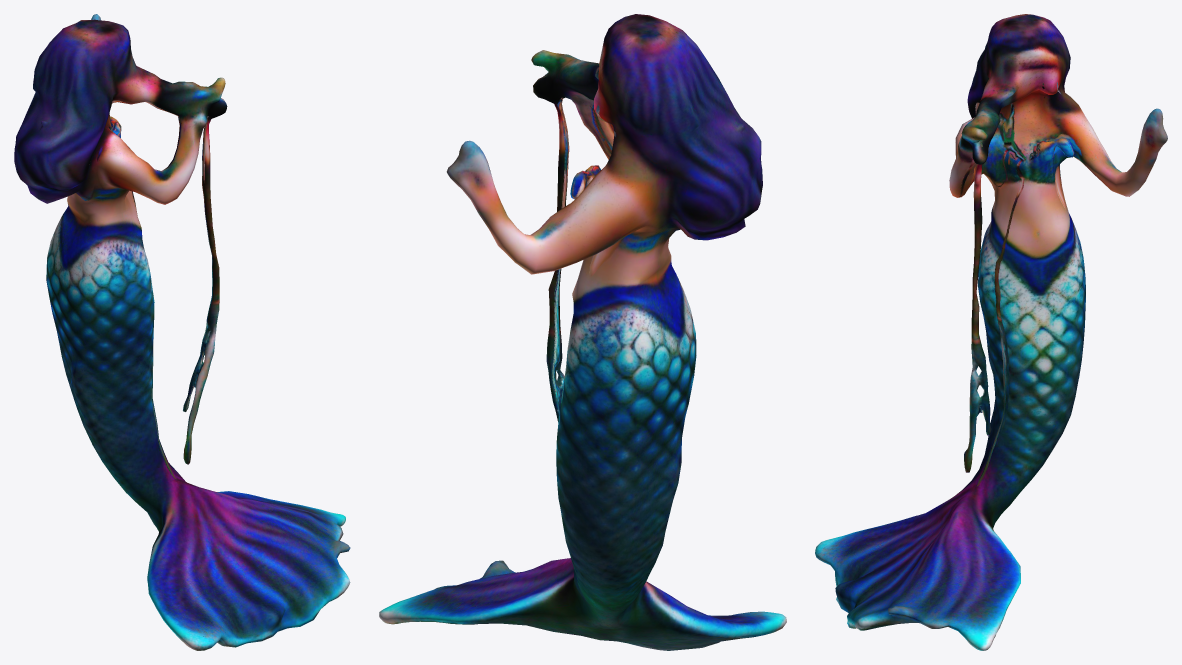
Rendered from 5e2e89eff9e9_ae83f508201f_Underwater_realisti.glb.
3 renders of one model, left to right at view 1: azimuth 30°, elevation 25°; view 2: azimuth 150°, elevation 25°; view 3: azimuth 270°, elevation 25°, orthographic. The views are drawn at different scales.
Parts seen in each view (by area): view 1: mesh; view 2: mesh; view 3: mesh.
Part boxes in pixels (x1=…): mesh: x1=14, y1=14, x2=350, y2=650; mesh: x1=379, y1=14, x2=786, y2=650; mesh: x1=815, y1=14, x2=1167, y2=650.
Size of the model in its own units: 0.5734 by 0.9988 by 0.579.
1 material, 1 textured.
